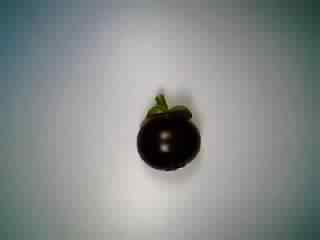mangosteen: (124, 93, 201, 172)
